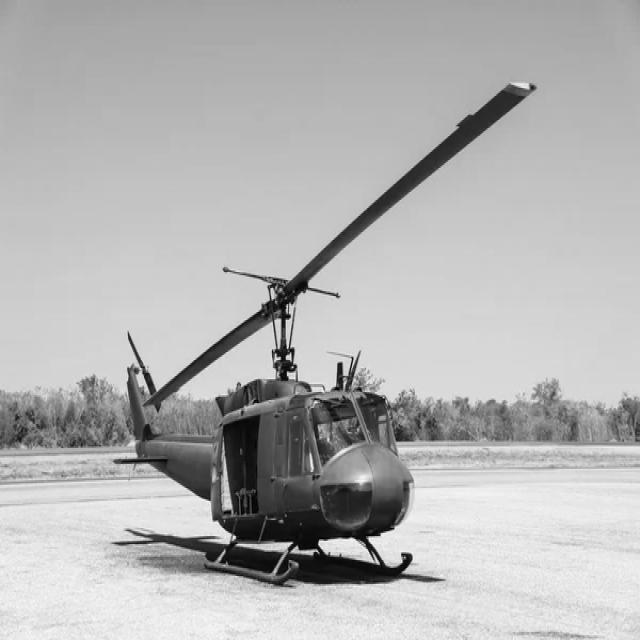Helicopter: (118, 83, 536, 585)
